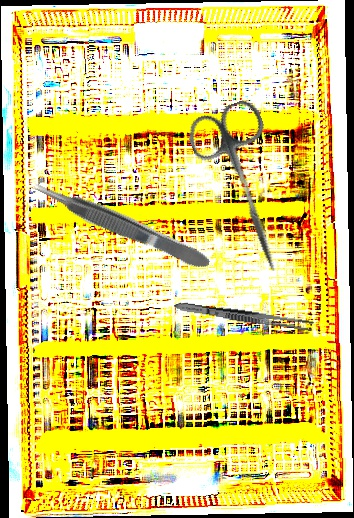Dressing Forceps: (173, 299, 316, 333)
Iris Scissors: (183, 96, 312, 283)
Tissue Forceps: (28, 173, 214, 277)
